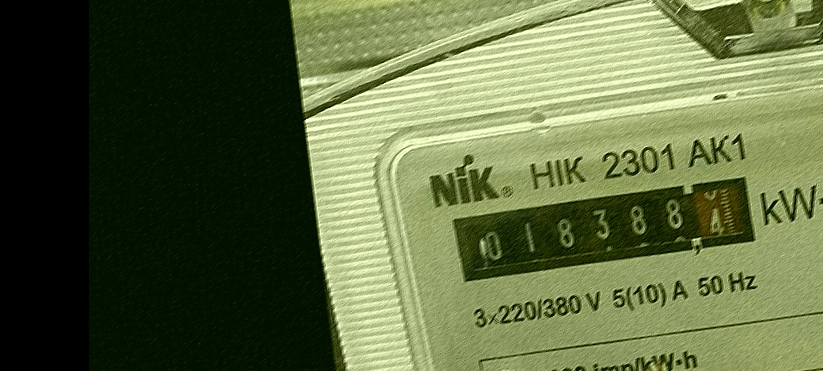0: (481, 226, 506, 264)
1: (518, 216, 541, 255)
3: (591, 205, 615, 242)
4: (704, 203, 728, 238)
8: (553, 212, 579, 251), (626, 201, 651, 239), (662, 194, 687, 232)
screen: (443, 165, 770, 294)
